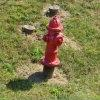a fire hydrant: (42, 12, 64, 77)
